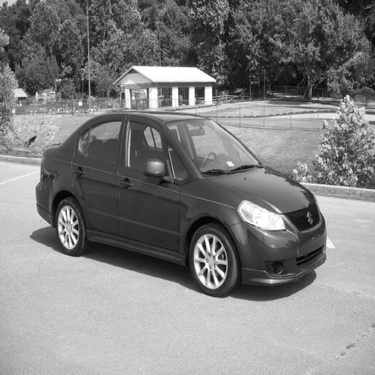car: (35, 106, 331, 301)
